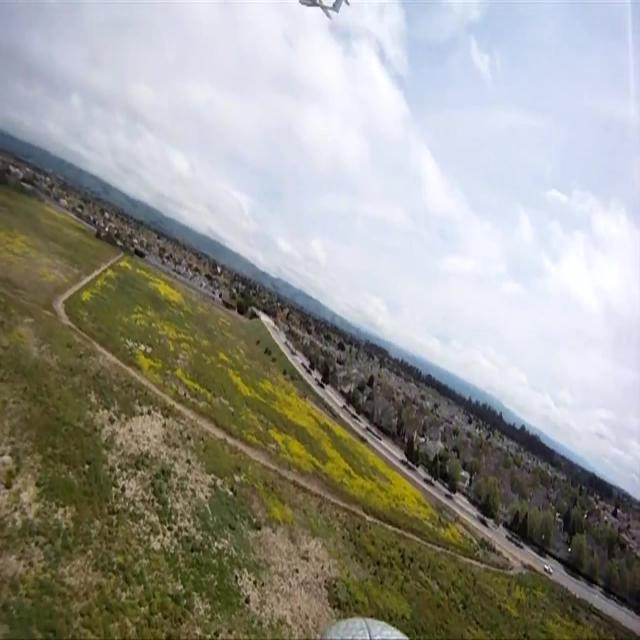iha: (295, 0, 353, 16)
